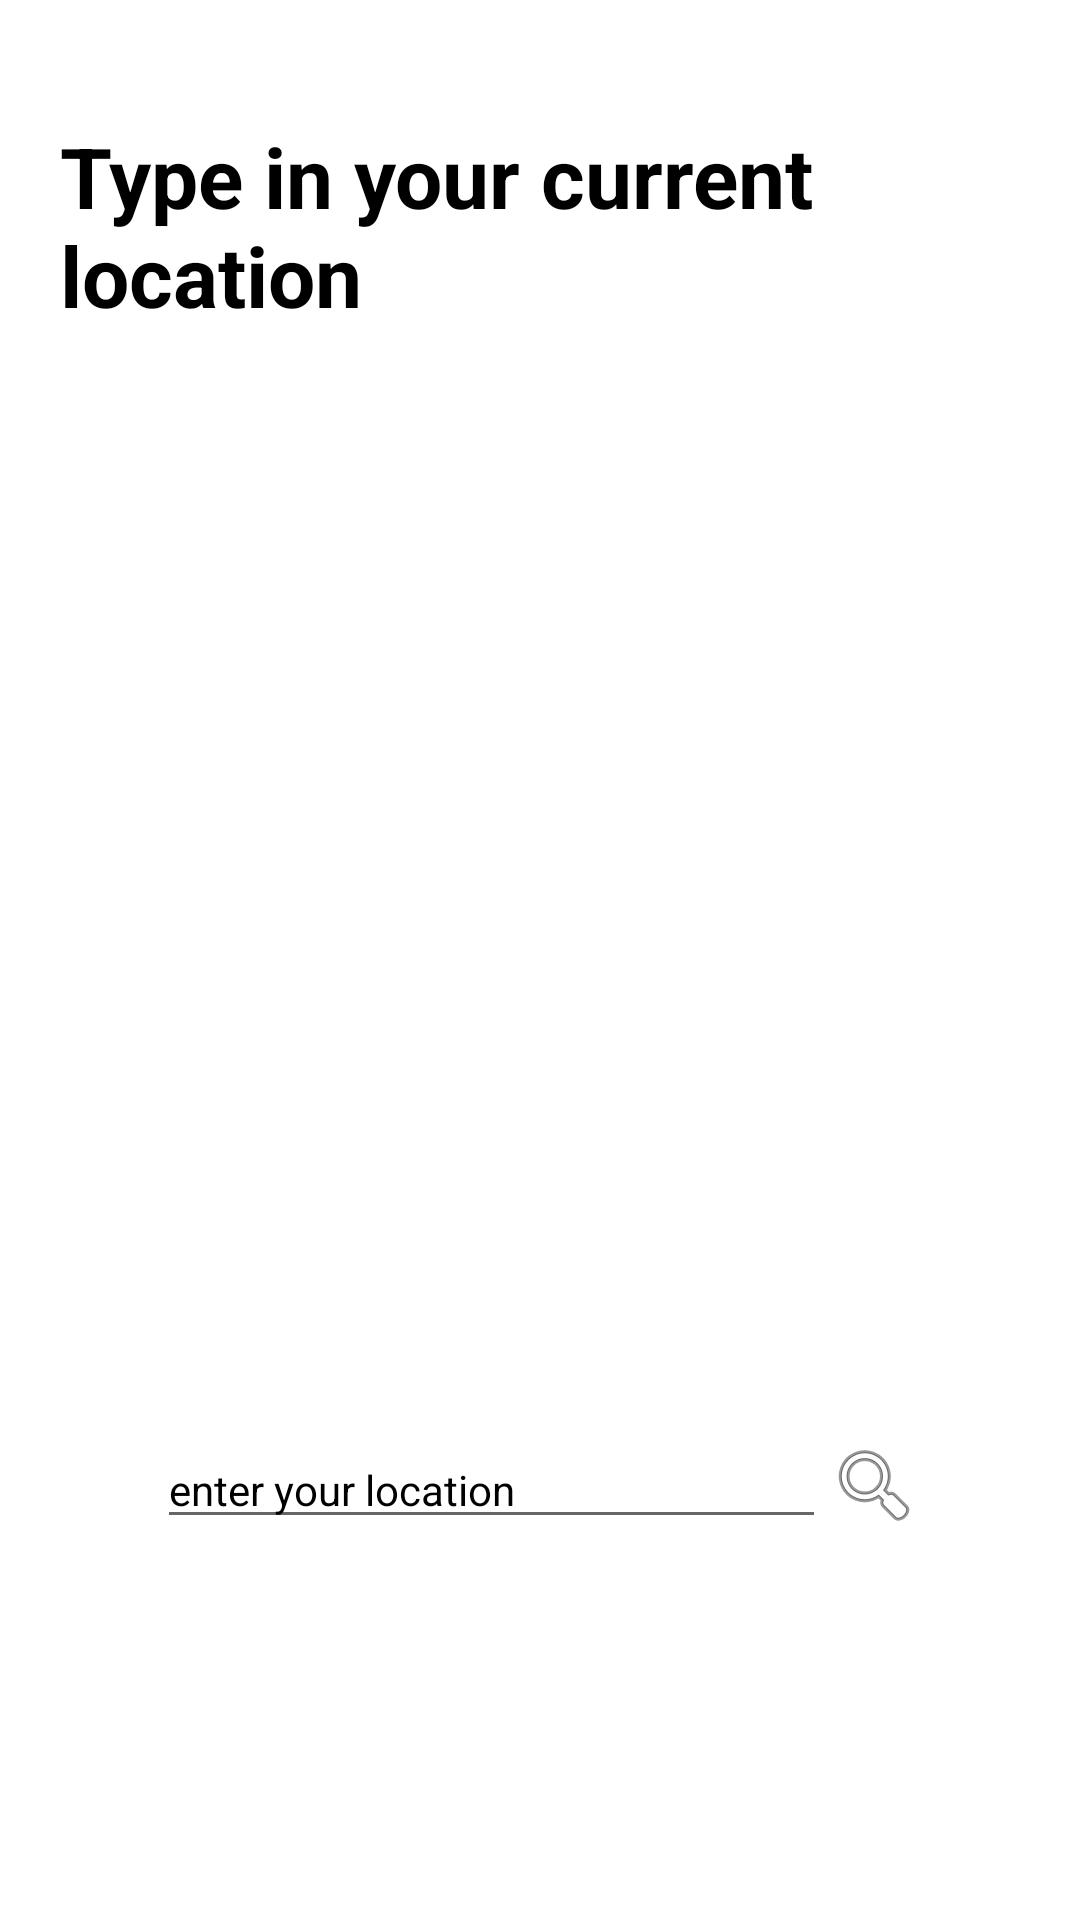

Icon click points for this 1080px x 1920px phone screenshot, format point (x, y):
search: point (874, 1485)
